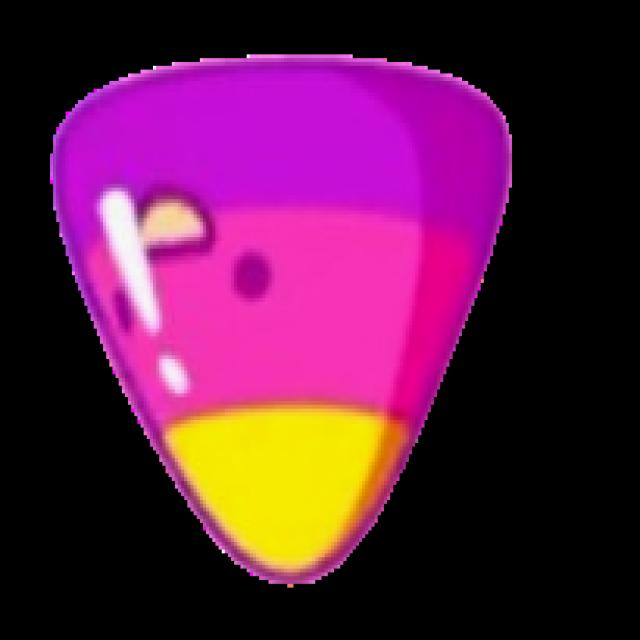Ground Monster - Red Bullet: (47, 49, 515, 590)
